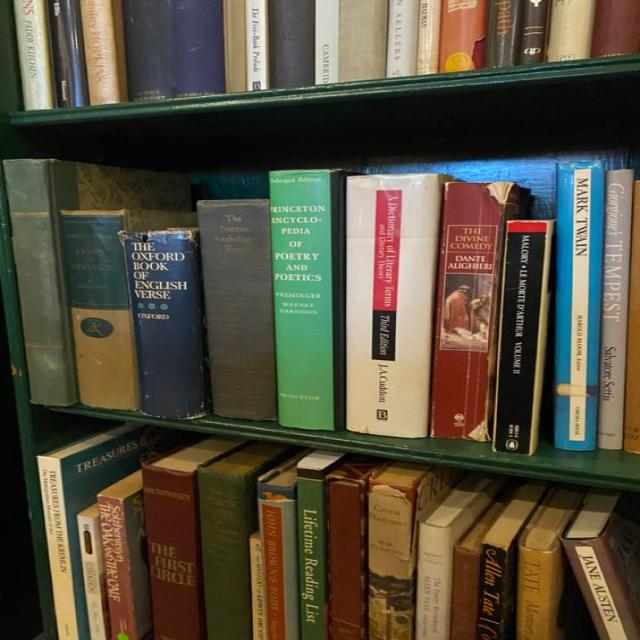book: (346, 174, 444, 437), (37, 424, 143, 639), (429, 181, 513, 441), (197, 441, 298, 639), (269, 170, 343, 430), (5, 160, 78, 404), (143, 441, 230, 639), (120, 227, 209, 418), (199, 201, 275, 420), (61, 210, 138, 410), (416, 472, 504, 639), (554, 161, 604, 450), (492, 220, 553, 454), (369, 464, 432, 639), (562, 496, 639, 639), (597, 169, 633, 449), (326, 457, 376, 639), (99, 470, 151, 639), (297, 451, 343, 639), (259, 454, 300, 639), (450, 501, 500, 639), (514, 546, 556, 639), (477, 541, 510, 639)
